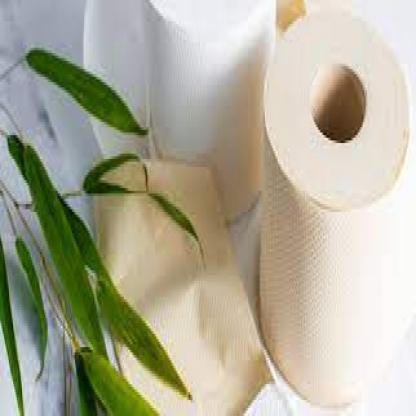tissue: (268, 10, 415, 415)
